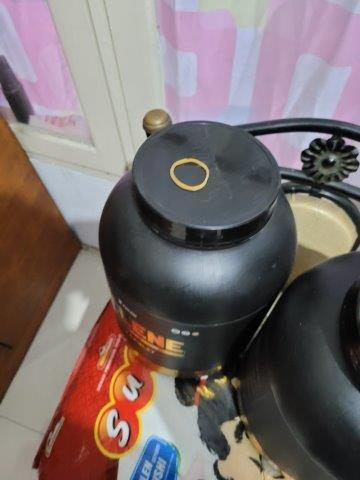karet: (169, 157, 209, 191)
